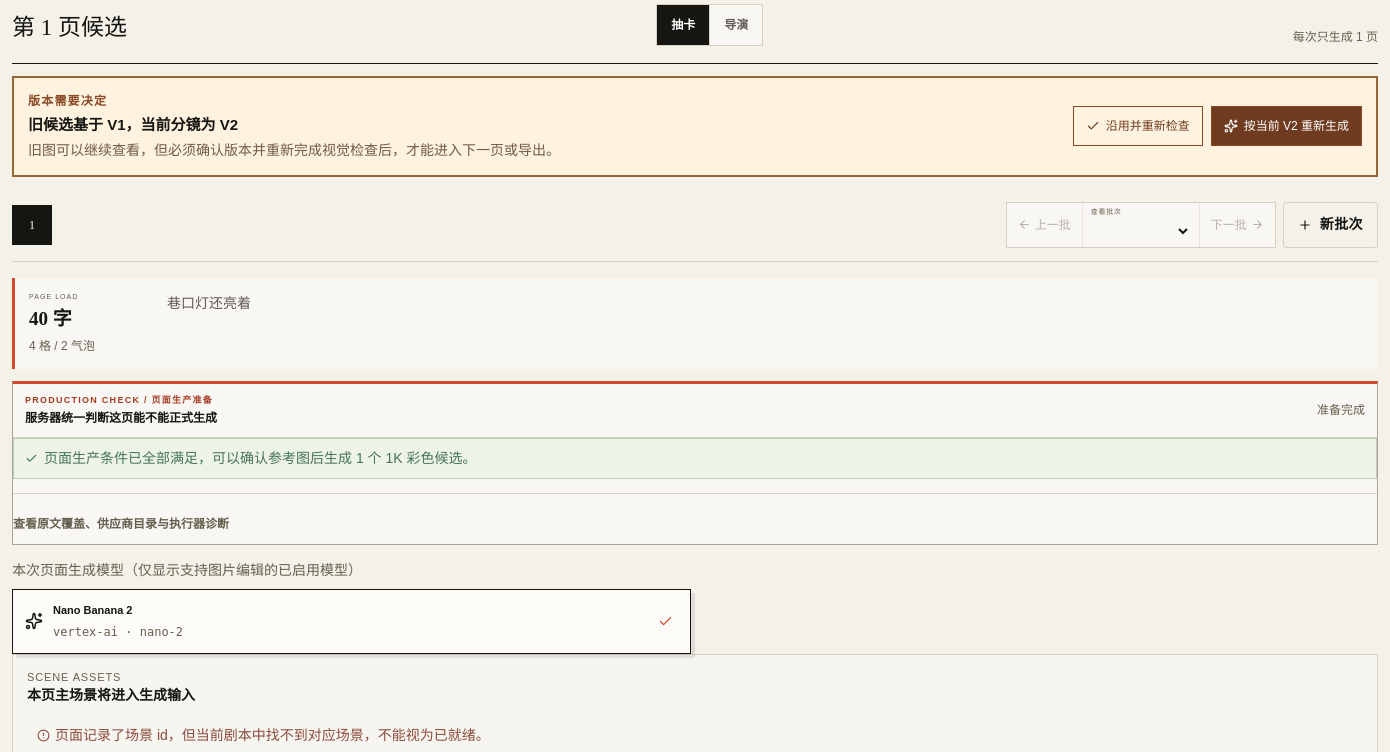
Test: GenerateSection 关键行为 › #544 沿用并重新检查非 409 失败：不做版本失效重拉
Check: the text "版本需要决定" is shown, box [28,94,107,108]
Click the button "沿用并重新检查" at (1138, 126), box [1073,106,1203,146]
(page scrolled)
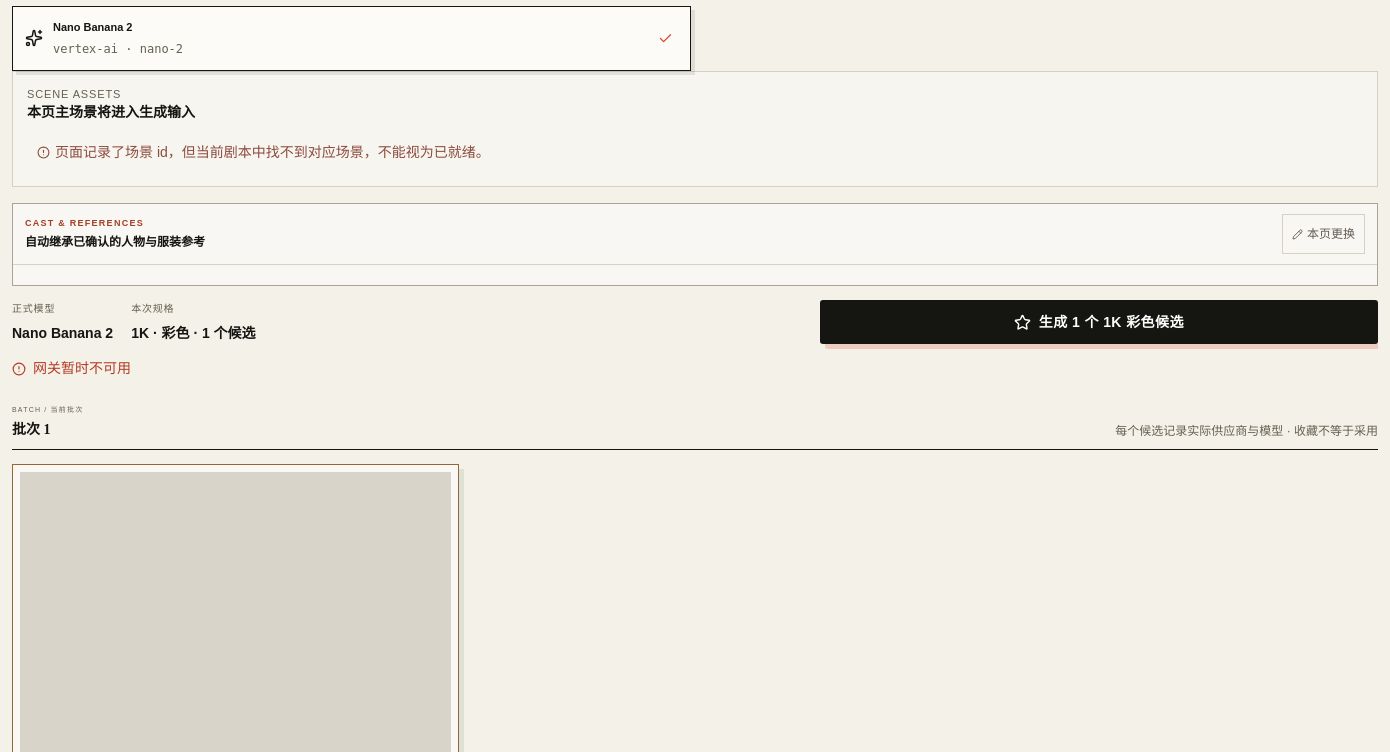
Check: the text "网关暂时不可用" is shown, box [12,360,131,376]
